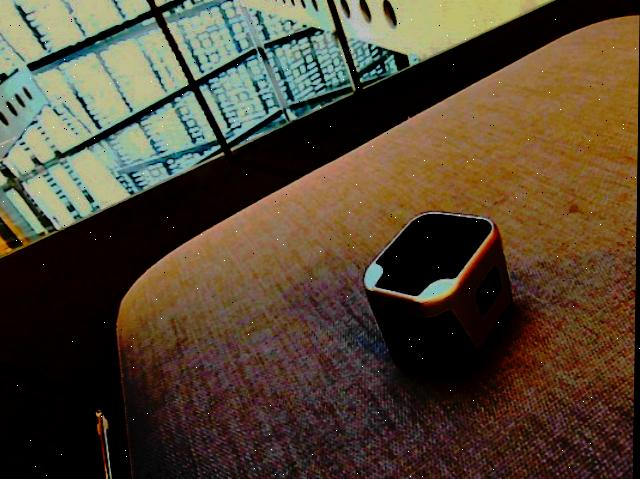adapter: (361, 210, 514, 380)
